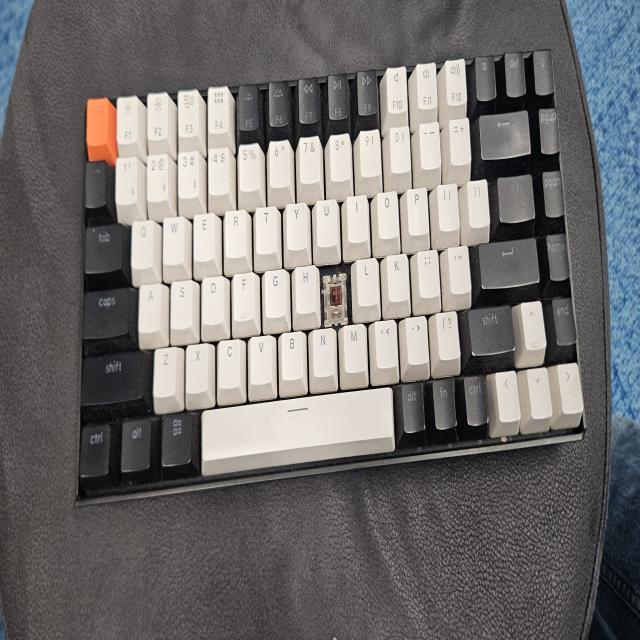C: (325, 270, 348, 323)
